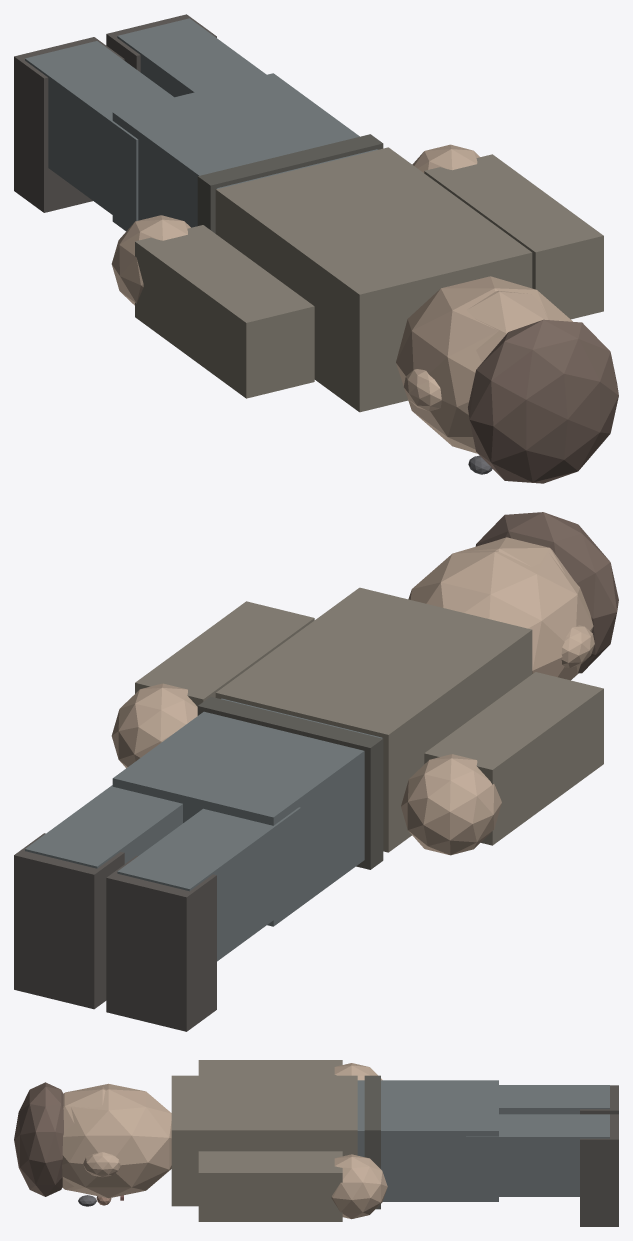
Rendered from hero_female_slim.glb.
3 views of the same model, one above another, from view 1: azimuth 30°, elevation 25°; view 2: azimuth 150°, elevation 25°; view 3: azimuth 270°, elevation 25° (orthographic). The views are drawn at different scales.
Parts seen in each view (by area): view 1: part_00, part_06, part_19, part_01, part_04, part_12, part_03, part_10, part_05, part_18, part_07, part_02 (+3 smaller); view 2: part_00, part_01, part_06, part_05, part_04, part_11, part_03, part_12, part_07, part_10, part_19, part_18 (+3 smaller); view 3: part_00, part_01, part_12, part_10, part_03, part_19, part_11, part_04, part_13, part_06, part_18, part_02 (+3 smaller).
Boxes of the visible parts, left/top/right/bottom form: part_00: left=215, top=147, right=532, bottom=412; part_06: left=135, top=225, right=314, bottom=398; part_19: left=468, top=319, right=618, bottom=483; part_01: left=112, top=73, right=377, bottom=231; part_04: left=25, top=41, right=173, bottom=227; part_12: left=424, top=154, right=603, bottom=319; part_03: left=396, top=276, right=572, bottom=453; part_10: left=117, top=18, right=266, bottom=97; part_05: left=14, top=37, right=124, bottom=212; part_18: left=197, top=134, right=383, bottom=233; part_07: left=111, top=215, right=190, bottom=305; part_02: left=467, top=290, right=550, bottom=362; part_00: left=215, top=587, right=532, bottom=852; part_01: left=112, top=698, right=382, bottom=926; part_06: left=424, top=672, right=603, bottom=845; part_05: left=106, top=855, right=216, bottom=1031; part_04: left=117, top=807, right=300, bottom=961; part_11: left=14, top=833, right=124, bottom=1009; part_03: left=408, top=543, right=593, bottom=680; part_12: left=135, top=601, right=314, bottom=706; part_07: left=401, top=754, right=501, bottom=855; part_10: left=25, top=785, right=182, bottom=868; part_19: left=475, top=512, right=618, bottom=673; part_18: left=197, top=696, right=383, bottom=869; part_00: left=171, top=1075, right=357, bottom=1206; part_01: left=357, top=1080, right=498, bottom=1201; part_12: left=198, top=1151, right=342, bottom=1221; part_10: left=466, top=1114, right=609, bottom=1196; part_03: left=62, top=1083, right=171, bottom=1198; part_19: left=14, top=1082, right=63, bottom=1196; part_11: left=580, top=1114, right=618, bottom=1226; part_04: left=499, top=1085, right=609, bottom=1114; part_13: left=331, top=1154, right=387, bottom=1219; part_06: left=198, top=1060, right=342, bottom=1075; part_18: left=364, top=1075, right=380, bottom=1209; part_02: left=62, top=1086, right=105, bottom=1190.
Bounding box in the file's own units: 0.93 × 0.435 × 2.02.
